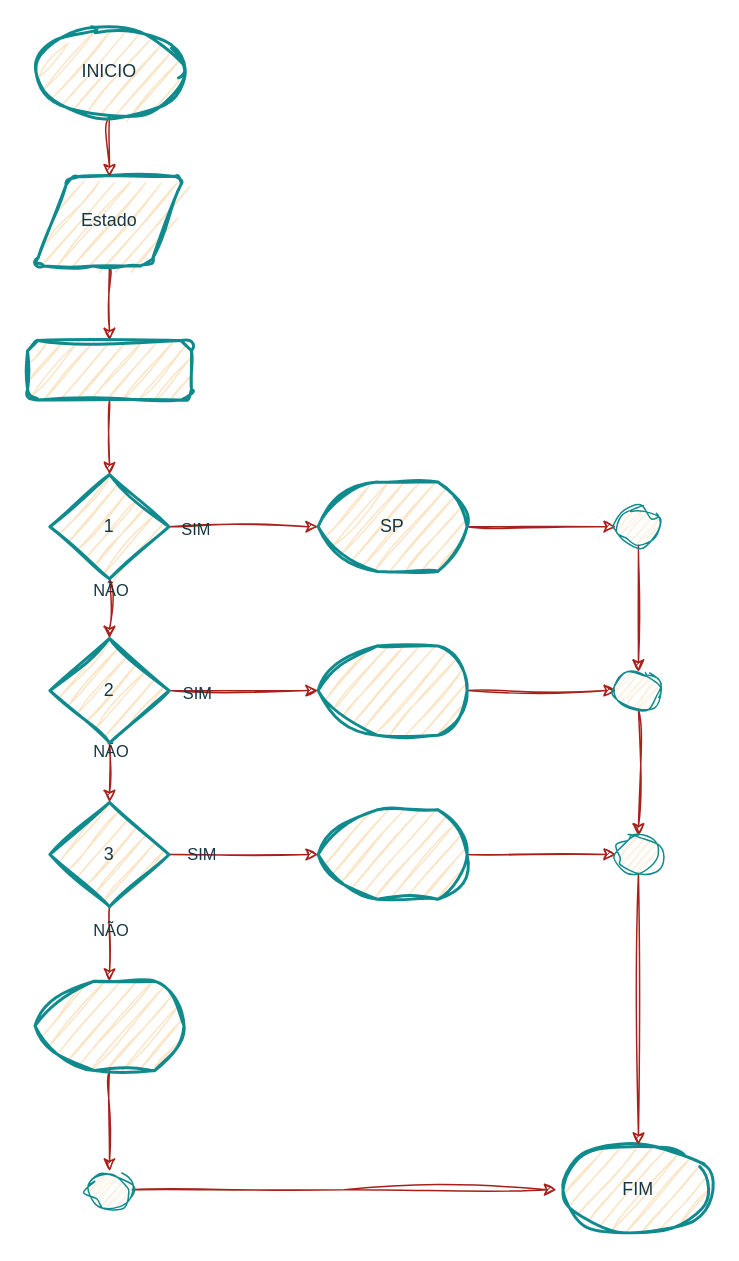
Some shapes in this 739 by 1261 pixel diagram are drawn without their labels. The centre of each missing label's shape, as x and y in pixels:
"Estado Escolhido" goes at point 108,369.
"MG" goes at point 392,854.
"RJ" goes at point 392,690.
"Valor Inválido" goes at point 109,1025.
